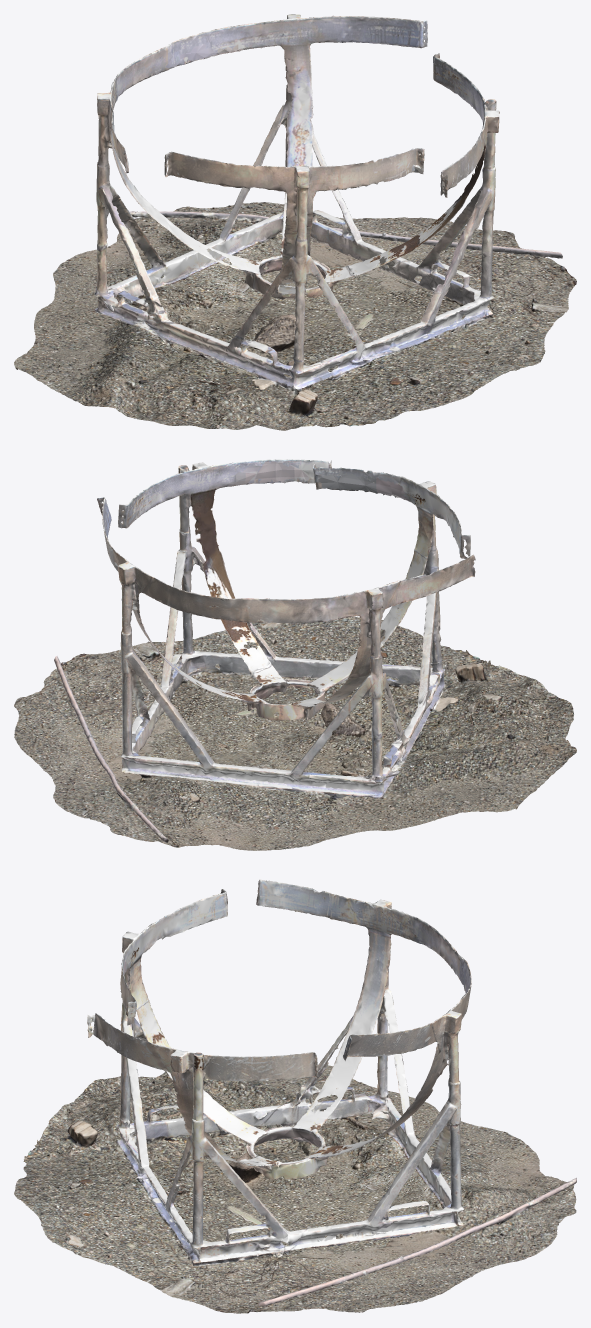
Rendered from MOD_debris_metalcage.fbx.
3 renders of one model, top to bottom at view 1: azimuth 30°, elevation 25°; view 2: azimuth 150°, elevation 25°; view 3: azimuth 270°, elevation 25°, orthographic. The views are drawn at different scales.
Parts seen in each view (by area): view 1: MOD_debris_metalcage; view 2: MOD_debris_metalcage; view 3: MOD_debris_metalcage.
Part boxes in pixels (x1,y1,x2,y2): MOD_debris_metalcage: (14, 14, 576, 430); MOD_debris_metalcage: (14, 459, 576, 850); MOD_debris_metalcage: (14, 879, 576, 1313).
Size of the model in its own units: 321 by 146 by 306.
